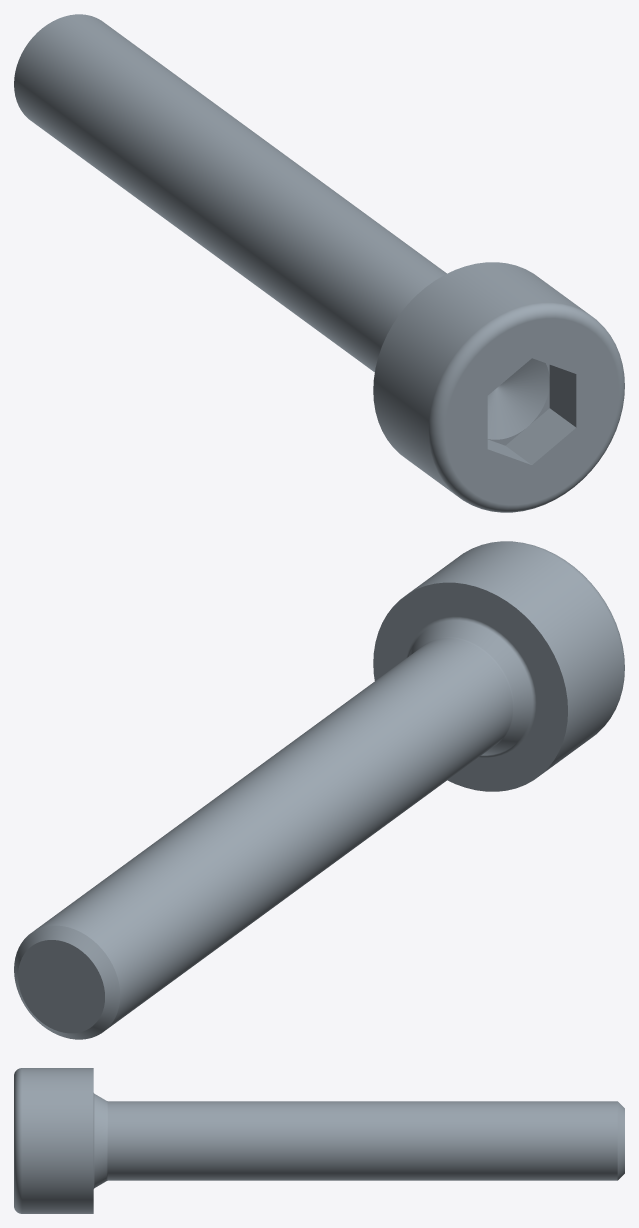
File: Hex_socket_head_cap_screw_M3x0_50_x_20.obj
The picture shows the model from 3 angles, top to bottom: view 1: azimuth 30°, elevation 25°; view 2: azimuth 150°, elevation 25°; view 3: azimuth 270°, elevation 25°; orthographic projection. The views are drawn at different scales.
Visible parts, largest first — view 1: mesh523, mesh530, mesh528, mesh529, mesh538, mesh536, mesh531; view 2: mesh523, mesh528, mesh527, mesh521, mesh525, mesh522, mesh526; view 3: mesh523, mesh528, mesh529, mesh525, mesh522.
Boxes of the visible parts, x1=… form: mesh523: x1=14, y1=14, x2=446, y2=372; mesh530: x1=445, y1=318, x2=618, y2=504; mesh528: x1=373, y1=262, x2=586, y2=493; mesh529: x1=428, y1=302, x2=624, y2=512; mesh538: x1=487, y1=358, x2=549, y2=439; mesh536: x1=505, y1=408, x2=575, y2=464; mesh531: x1=549, y1=365, x2=576, y2=427; mesh523: x1=34, y1=638, x2=512, y2=1029; mesh528: x1=409, y1=542, x2=623, y2=773; mesh527: x1=373, y1=582, x2=567, y2=791; mesh521: x1=18, y1=940, x2=104, y2=1033; mesh525: x1=409, y1=620, x2=532, y2=755; mesh522: x1=14, y1=925, x2=120, y2=1039; mesh526: x1=406, y1=616, x2=536, y2=757; mesh523: x1=108, y1=1101, x2=617, y2=1180; mesh528: x1=22, y1=1068, x2=93, y2=1213; mesh529: x1=14, y1=1068, x2=21, y2=1213; mesh525: x1=95, y1=1094, x2=106, y2=1187; mesh522: x1=617, y1=1101, x2=624, y2=1180.
Bounding box in the file's own units: 0.0055 × 0.00549 × 0.023.
